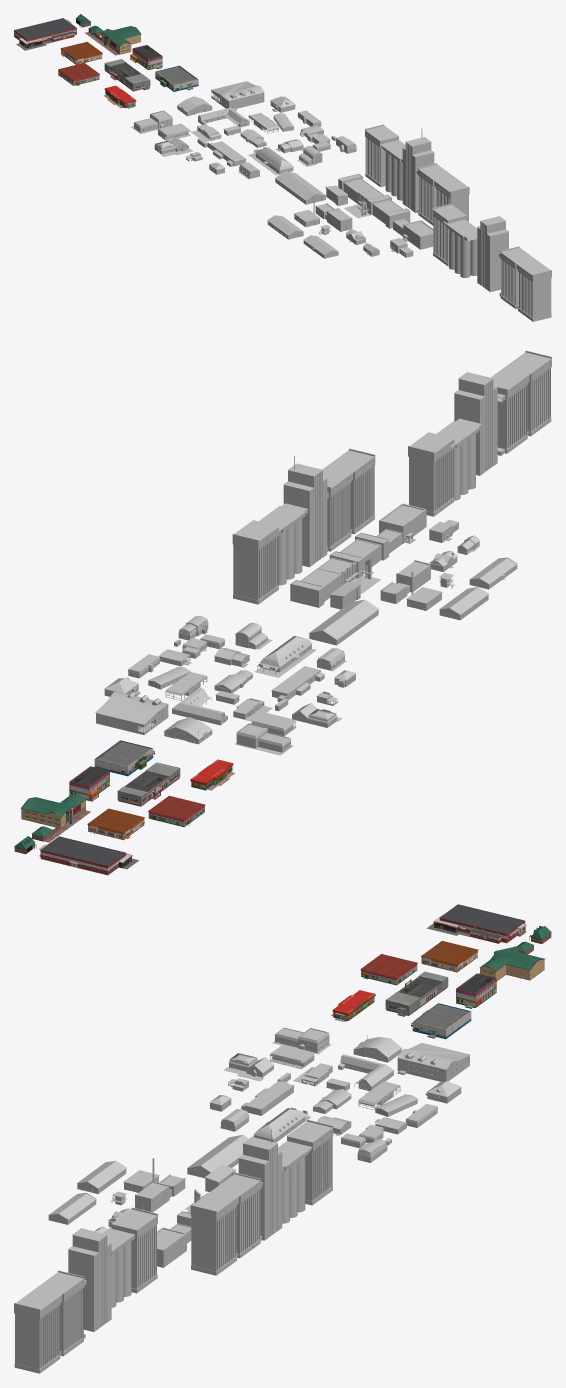
The model's file is building.fbx.
3 views of the same model, one above another, from view 1: azimuth 30°, elevation 25°; view 2: azimuth 150°, elevation 25°; view 3: azimuth 330°, elevation 25° (orthographic). The views are drawn at different scales.
Visible parts, largest first — view 1: wre, da, wqe, sssa, saa, dsaw, awa, b23, qw, eeeefdf, wqq, saw (+15 smaller); view 2: wre, da, wqe, awa, sssa, b23, dsaw, qw, saa, eeeefdf, saw, wqq (+18 smaller); view 3: wre, da, sssa, dsaw, awa, b23, qw, saw, saa, aq, eeeefdf, aw (+18 smaller).
Part boxes in pixels (x1,y1,x2,y2): wre: [365, 124, 469, 225]; da: [499, 246, 551, 321]; wqe: [338, 173, 410, 228]; sssa: [477, 216, 508, 292]; saa: [443, 219, 477, 277]; dsaw: [14, 18, 76, 50]; awa: [432, 203, 466, 266]; b23: [211, 81, 264, 110]; qw: [85, 25, 141, 55]; eeeefdf: [275, 171, 325, 204]; wqq: [393, 218, 433, 249]; saw: [104, 59, 150, 91]; wre: [232, 448, 375, 604]; da: [491, 350, 551, 455]; wqe: [290, 532, 388, 607]; awa: [408, 432, 454, 516]; sssa: [454, 372, 497, 475]; b23: [95, 692, 168, 734]; dsaw: [39, 836, 138, 875]; qw: [20, 793, 90, 842]; saa: [436, 418, 481, 500]; eeeefdf: [309, 599, 378, 645]; saw: [117, 762, 180, 806]; wqq: [376, 503, 426, 553]; wre: [190, 1119, 333, 1275]; da: [14, 1270, 86, 1373]; sssa: [68, 1228, 111, 1331]; dsaw: [427, 904, 526, 943]; awa: [111, 1207, 157, 1293]; b23: [397, 1042, 470, 1081]; qw: [479, 941, 544, 981]; saw: [385, 971, 448, 1016]; saa: [103, 1227, 134, 1307]; aq: [411, 1003, 471, 1039]; eeeefdf: [187, 1135, 248, 1178]; aw: [421, 941, 478, 972].
Bounding box in the file's own units: 5325 × 2521 × 25855.
